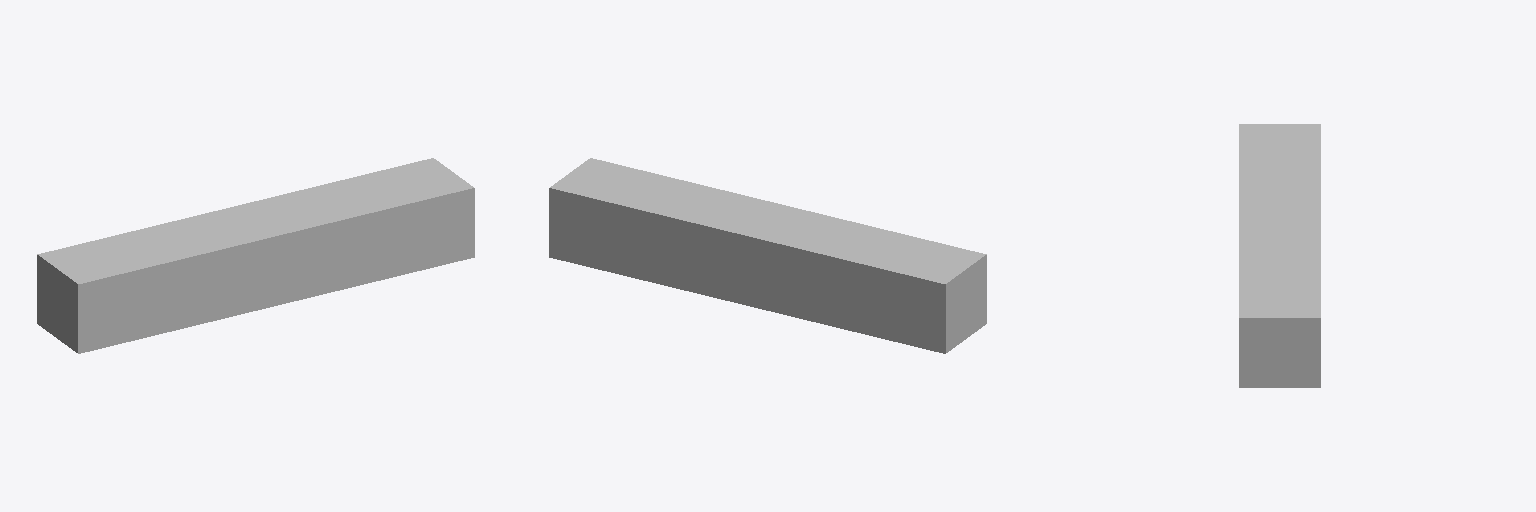
The model's file is bar.obj.
3 renders of one model, left to right at view 1: azimuth 30°, elevation 25°; view 2: azimuth 150°, elevation 25°; view 3: azimuth 270°, elevation 25°, orthographic.
Size of the model in its own units: 3.1 by 0.5208 by 0.5561.